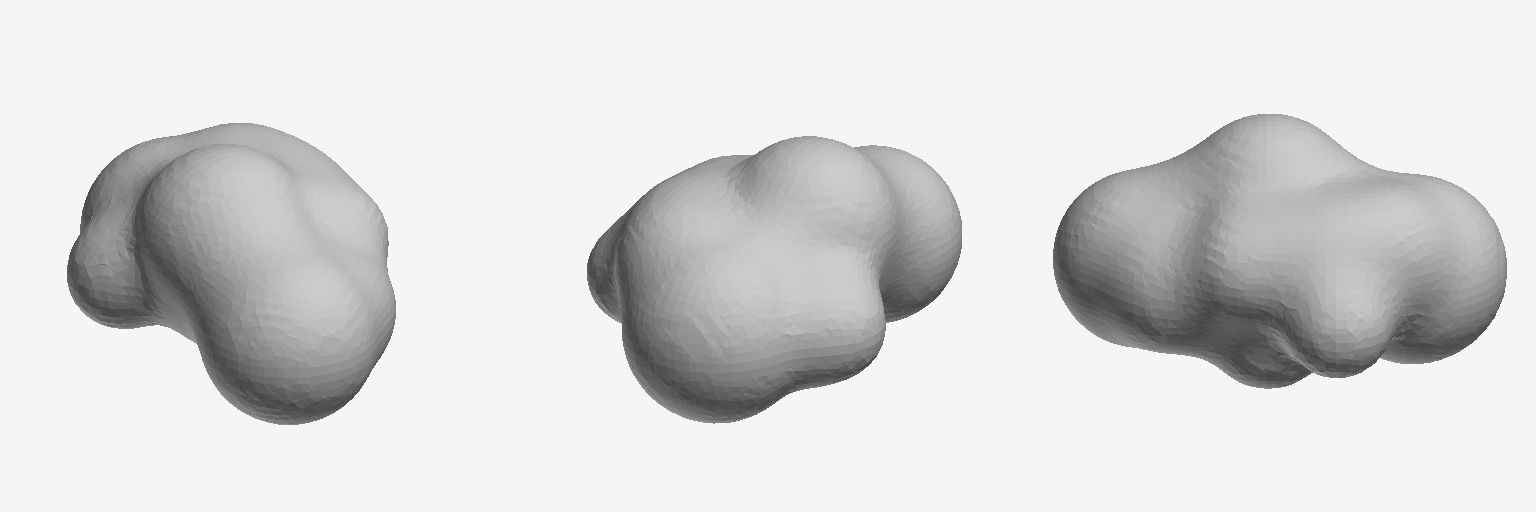
File: Cloud3.obj
3 renders of one model, left to right at view 1: azimuth 30°, elevation 25°; view 2: azimuth 150°, elevation 25°; view 3: azimuth 270°, elevation 25°, orthographic.
Parts seen in each view (by area): view 1: Cloud3; view 2: Cloud3; view 3: Cloud3.
Part boxes in pixels (left/top/right/bottom): Cloud3: left=67, top=123, right=395, bottom=424; Cloud3: left=587, top=136, right=961, bottom=423; Cloud3: left=1053, top=114, right=1506, bottom=388.
Bounding box in the file's own units: 8.45 × 6.46 × 11.44.